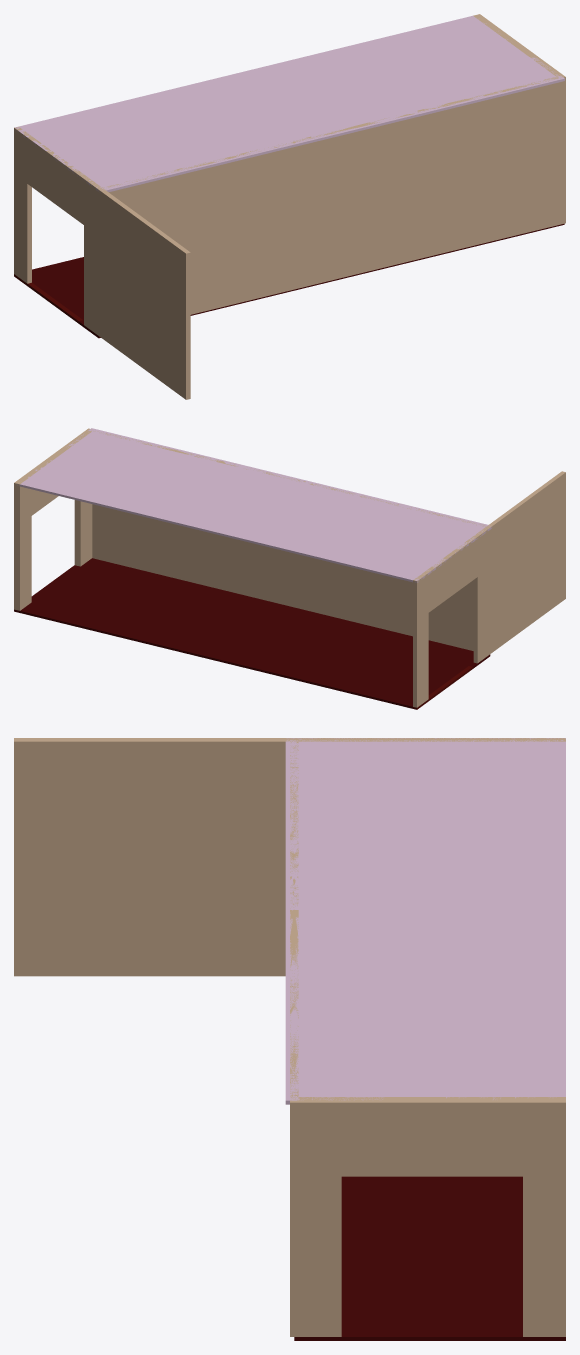
File: Hall00.gltf
3 views of the same model, one above another, from view 1: azimuth 30°, elevation 25°; view 2: azimuth 150°, elevation 25°; view 3: azimuth 270°, elevation 25° (orthographic). The views are drawn at different scales.
Visible parts, largest first — view 1: wall2-north, roof, wall3-back, floor, Wall4-front; view 2: roof, floor, wall2-north, wall3-back, Wall4-front; view 3: roof, wall3-back, Wall4-front, floor, wall2-north.
Boxes of the visible parts, box(x1,y1,x2,y2) form: wall2-north: box(97, 75, 565, 334); roof: box(15, 15, 564, 192); wall3-back: box(14, 126, 190, 399); floor: box(14, 223, 564, 338); Wall4-front: box(473, 14, 562, 76); roof: box(17, 428, 492, 582); floor: box(14, 558, 490, 709); wall2-north: box(86, 428, 491, 653); wall3-back: box(413, 471, 565, 707); Wall4-front: box(14, 430, 92, 610); roof: box(285, 738, 565, 1104); wall3-back: box(14, 738, 565, 976); Wall4-front: box(298, 1097, 565, 1336); floor: box(294, 1176, 565, 1340); wall2-north: box(290, 738, 298, 1336).
Bounding box in the file's own units: 200 × 61 × 128.
